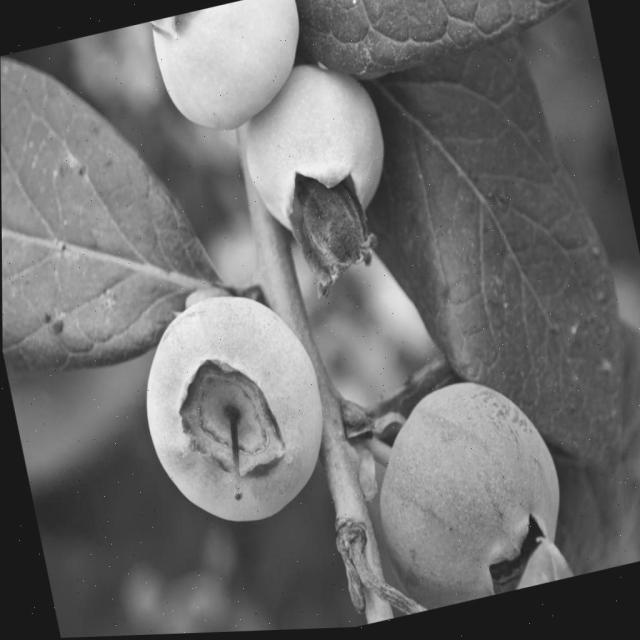RipeBlueBerry: (353, 362, 579, 622)
Semi-RipeBlueBerry: (124, 276, 346, 550)
UnripeBlueBerry: (227, 44, 407, 276)
